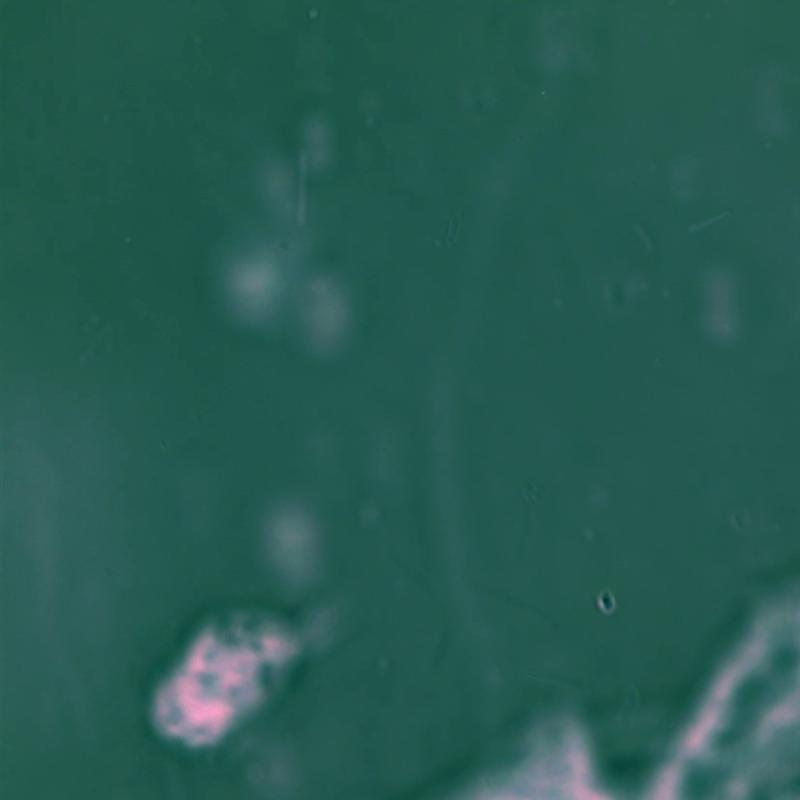depth:100: (118, 589, 434, 758)
